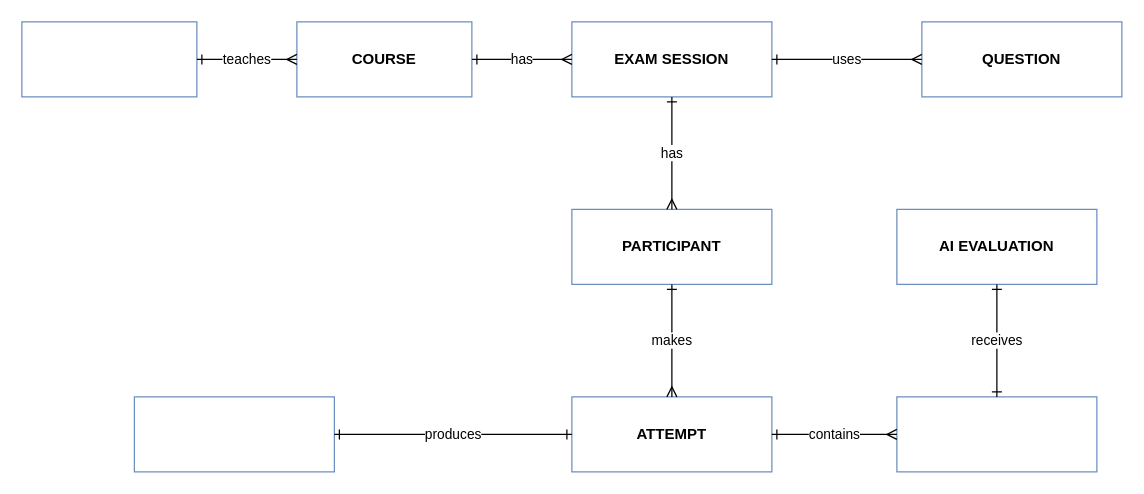
The diagram is 1144 pixels wide and 494 high, and some of its shapes have lost their labels. The centre of each missing label's shape, as x and y in pixels:
"ANSWER" belongs at pixel 996 434.
"TRANSCRIPT" belongs at pixel 233 434.
"USER" belongs at pixel 109 59.
